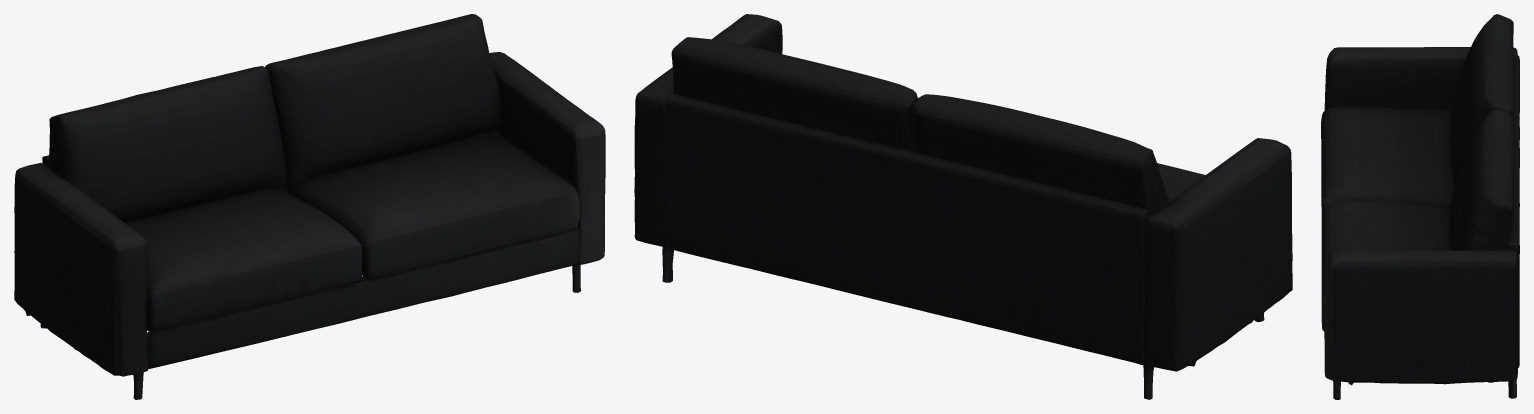
Rendered from ast_40ae0466aba8.glb.
3 views of the same model, side by side, from view 1: azimuth 30°, elevation 25°; view 2: azimuth 150°, elevation 25°; view 3: azimuth 270°, elevation 25° (orthographic). The views are drawn at different scales.
Parts seen in each view (by area): view 1: geometry_0; view 2: geometry_0; view 3: geometry_0.
Part boxes in pixels (x1=…): geometry_0: x1=14, y1=14, x2=605, y2=399; geometry_0: x1=634, y1=14, x2=1292, y2=399; geometry_0: x1=1321, y1=14, x2=1519, y2=399.
Bounding box in the file's own units: 0.9907 × 0.4358 × 0.381.
Materials: 1 (1 with a texture image).
